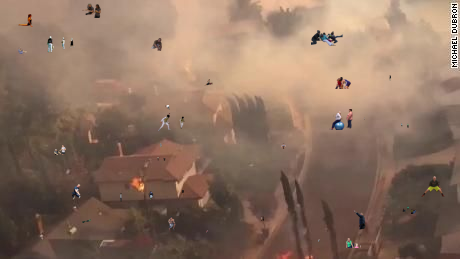Human: (311, 30, 343, 46), (329, 109, 353, 130), (421, 176, 445, 197), (46, 36, 75, 53), (158, 113, 185, 131), (353, 209, 366, 236), (82, 3, 101, 18), (18, 14, 33, 27), (335, 77, 351, 89), (71, 184, 81, 200), (346, 238, 361, 248), (151, 38, 162, 51), (168, 216, 176, 232), (54, 145, 66, 155), (402, 206, 416, 214), (148, 191, 155, 206), (18, 47, 27, 54), (204, 79, 213, 86), (401, 123, 410, 128), (165, 105, 171, 112), (82, 219, 91, 223), (157, 157, 166, 161), (281, 143, 286, 149), (120, 193, 122, 202), (261, 216, 264, 221), (389, 75, 391, 81), (318, 239, 320, 243), (160, 143, 162, 147), (206, 230, 208, 233), (182, 190, 184, 193), (364, 117, 365, 120)
